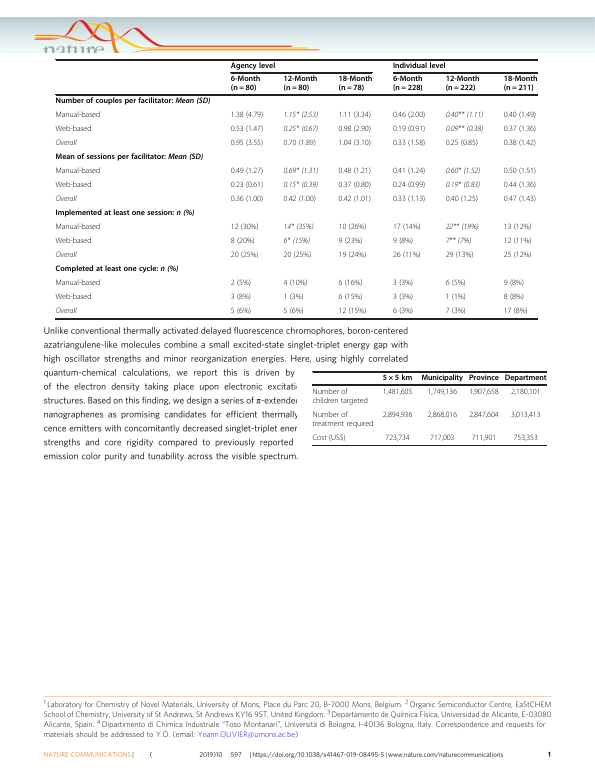borderless: (54, 58, 537, 318), (311, 370, 547, 445)
cell: (55, 97, 211, 107), (55, 153, 204, 163), (55, 209, 195, 219), (55, 265, 179, 275), (312, 410, 374, 428), (312, 387, 369, 405), (283, 75, 318, 94), (338, 75, 373, 94), (445, 75, 480, 94), (503, 75, 538, 94), (392, 75, 424, 94), (230, 75, 261, 94), (392, 62, 447, 71), (230, 62, 276, 71), (55, 111, 101, 120), (55, 167, 101, 176), (55, 223, 101, 232), (55, 279, 101, 288), (420, 374, 464, 383), (504, 374, 547, 383), (445, 111, 484, 120), (445, 125, 484, 134), (55, 125, 92, 134), (55, 181, 92, 190), (55, 237, 92, 246), (55, 293, 92, 302), (283, 111, 319, 120), (283, 125, 319, 134), (283, 167, 319, 176), (445, 167, 481, 176), (283, 181, 319, 190), (445, 181, 481, 190), (426, 387, 458, 397), (468, 387, 500, 397), (312, 433, 347, 442), (445, 223, 480, 232), (382, 387, 413, 397), (510, 387, 541, 397), (230, 111, 264, 120), (338, 111, 372, 120), (392, 111, 426, 120), (503, 111, 537, 120), (230, 125, 264, 134), (338, 125, 372, 134), (392, 125, 426, 134), (503, 125, 537, 134), (230, 139, 264, 148), (283, 139, 317, 148), (338, 139, 372, 148), (392, 139, 426, 148), (445, 139, 479, 148), (503, 139, 537, 148), (230, 167, 264, 176), (338, 167, 372, 176), (392, 167, 426, 176), (503, 167, 537, 176), (230, 181, 264, 190), (338, 181, 372, 190), (392, 181, 426, 190), (503, 181, 537, 190), (230, 195, 264, 204), (283, 195, 317, 204), (338, 195, 372, 204), (392, 195, 426, 204), (445, 195, 479, 204), (503, 195, 537, 204), (468, 374, 500, 383), (426, 410, 458, 419), (468, 410, 500, 419), (382, 374, 413, 383), (382, 410, 413, 419), (510, 410, 541, 419), (283, 223, 314, 232), (392, 223, 422, 232), (392, 251, 422, 260), (230, 223, 259, 232), (338, 223, 367, 232), (503, 223, 532, 232), (503, 237, 532, 246), (230, 251, 259, 260), (283, 251, 312, 260), (338, 251, 367, 260), (445, 251, 474, 260), (503, 251, 532, 260), (338, 307, 367, 316), (283, 237, 311, 246), (384, 433, 411, 442), (512, 433, 539, 442), (445, 237, 472, 246), (429, 433, 455, 442), (471, 433, 497, 442), (230, 237, 256, 246), (503, 307, 529, 316), (338, 237, 363, 246), (283, 279, 308, 288), (338, 279, 363, 288), (338, 293, 363, 302), (55, 139, 78, 148), (55, 195, 78, 204), (55, 251, 78, 260), (55, 307, 78, 316), (392, 237, 414, 246), (230, 279, 252, 288), (392, 279, 414, 288), (445, 279, 467, 288), (503, 279, 525, 288), (230, 293, 252, 302), (283, 293, 305, 302), (392, 293, 414, 302), (445, 293, 467, 302), (503, 293, 525, 302), (230, 307, 252, 316), (283, 307, 305, 316), (392, 307, 414, 316), (445, 307, 467, 316)
